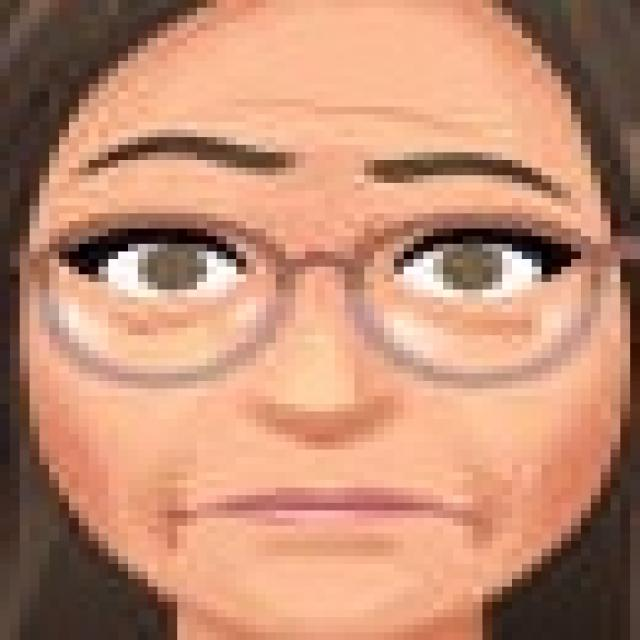Anxiety: (21, 0, 630, 632)
